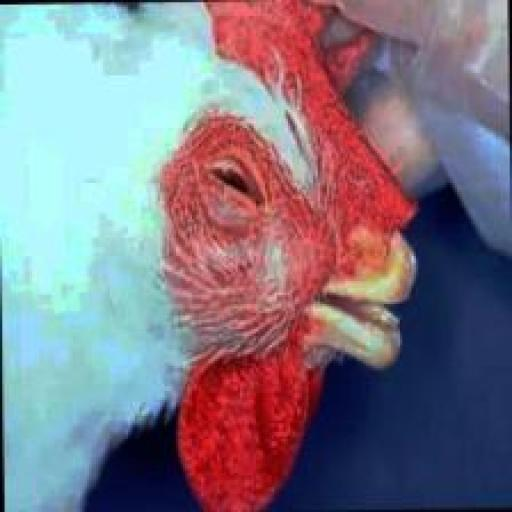disease: (190, 120, 271, 258)
